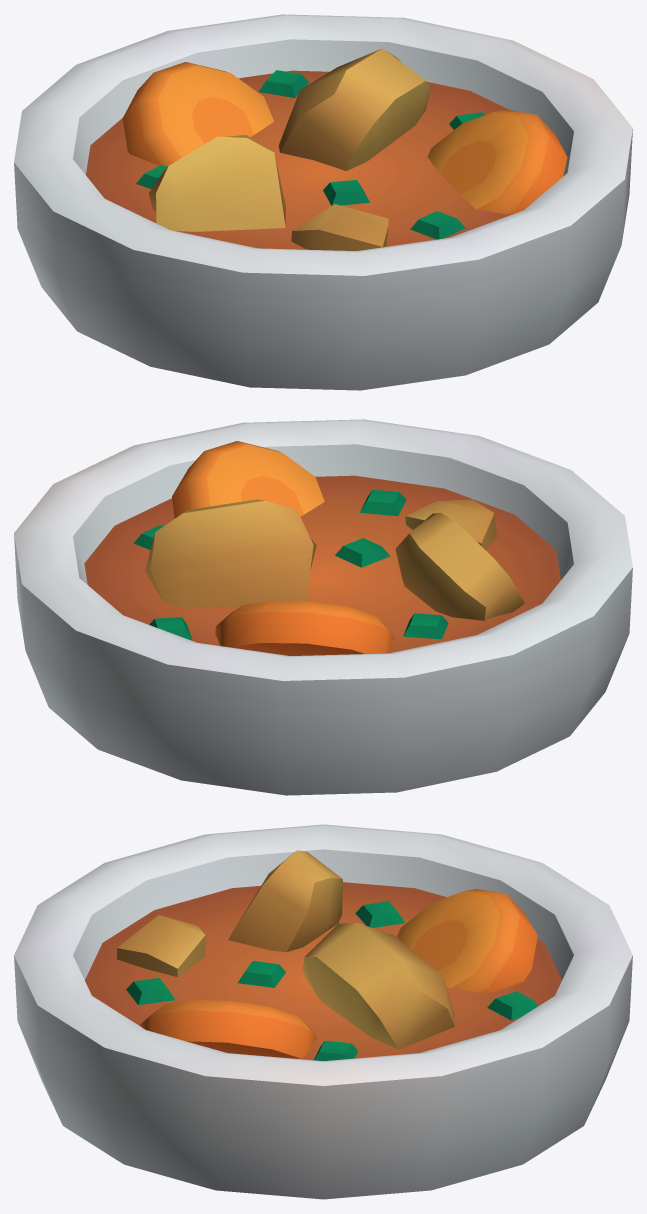
File: kkr.food_stew.glb
The picture shows the model from 3 angles, top to bottom: view 1: azimuth 30°, elevation 25°; view 2: azimuth 150°, elevation 25°; view 3: azimuth 270°, elevation 25°; orthographic projection.
Parts seen in each view (by area): view 1: food_stew; view 2: food_stew; view 3: food_stew.
Part boxes in pixels (box(x1,y1,x2,y2)): food_stew: box(14, 14, 632, 390); food_stew: box(14, 419, 632, 795); food_stew: box(14, 824, 632, 1199).
Bounding box in the file's own units: 0.2619 × 0.1019 × 0.2619.
Materials: 1 (1 with a texture image).
